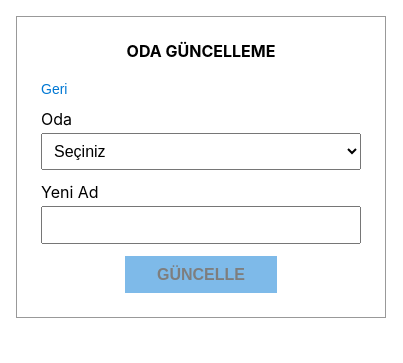
Scenario: RoomUpdate › shows the generic failure message when updateRoom rejects for any reason
This screenshot has width=403, height=363.
Select "Depo" in the dropdown labelled "Oda" at (201, 152), box [41,133,361,170]
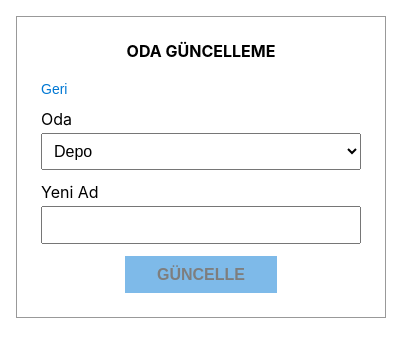
Type "Yeni Depo" into the field labelled "Yeni Ad" at (201, 225), box [41,206,361,244]
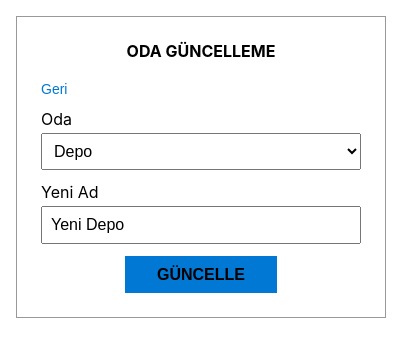
Click the button "GÜNCELLE" at (201, 275), box [125,256,277,293]
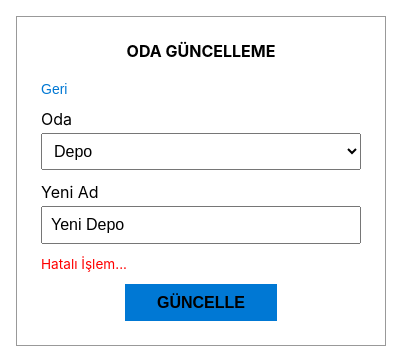
Expected: the text "Hatalı İşlem..." is shown, [41,256,127,272]
